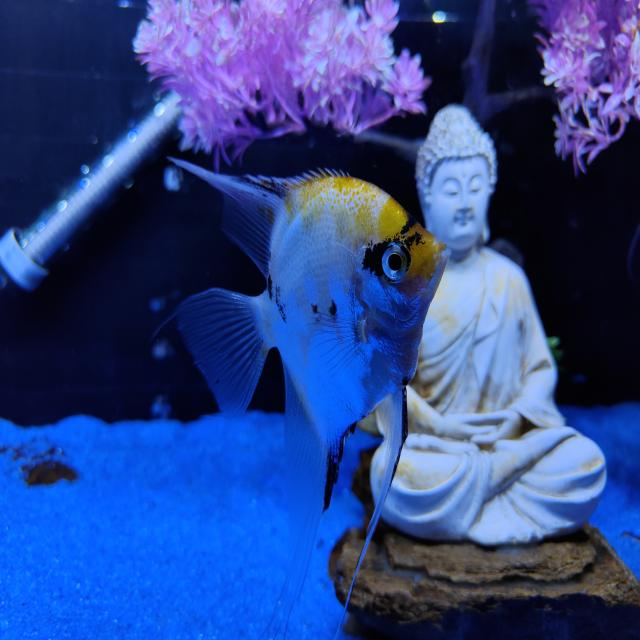Fish: (170, 159, 449, 638)
